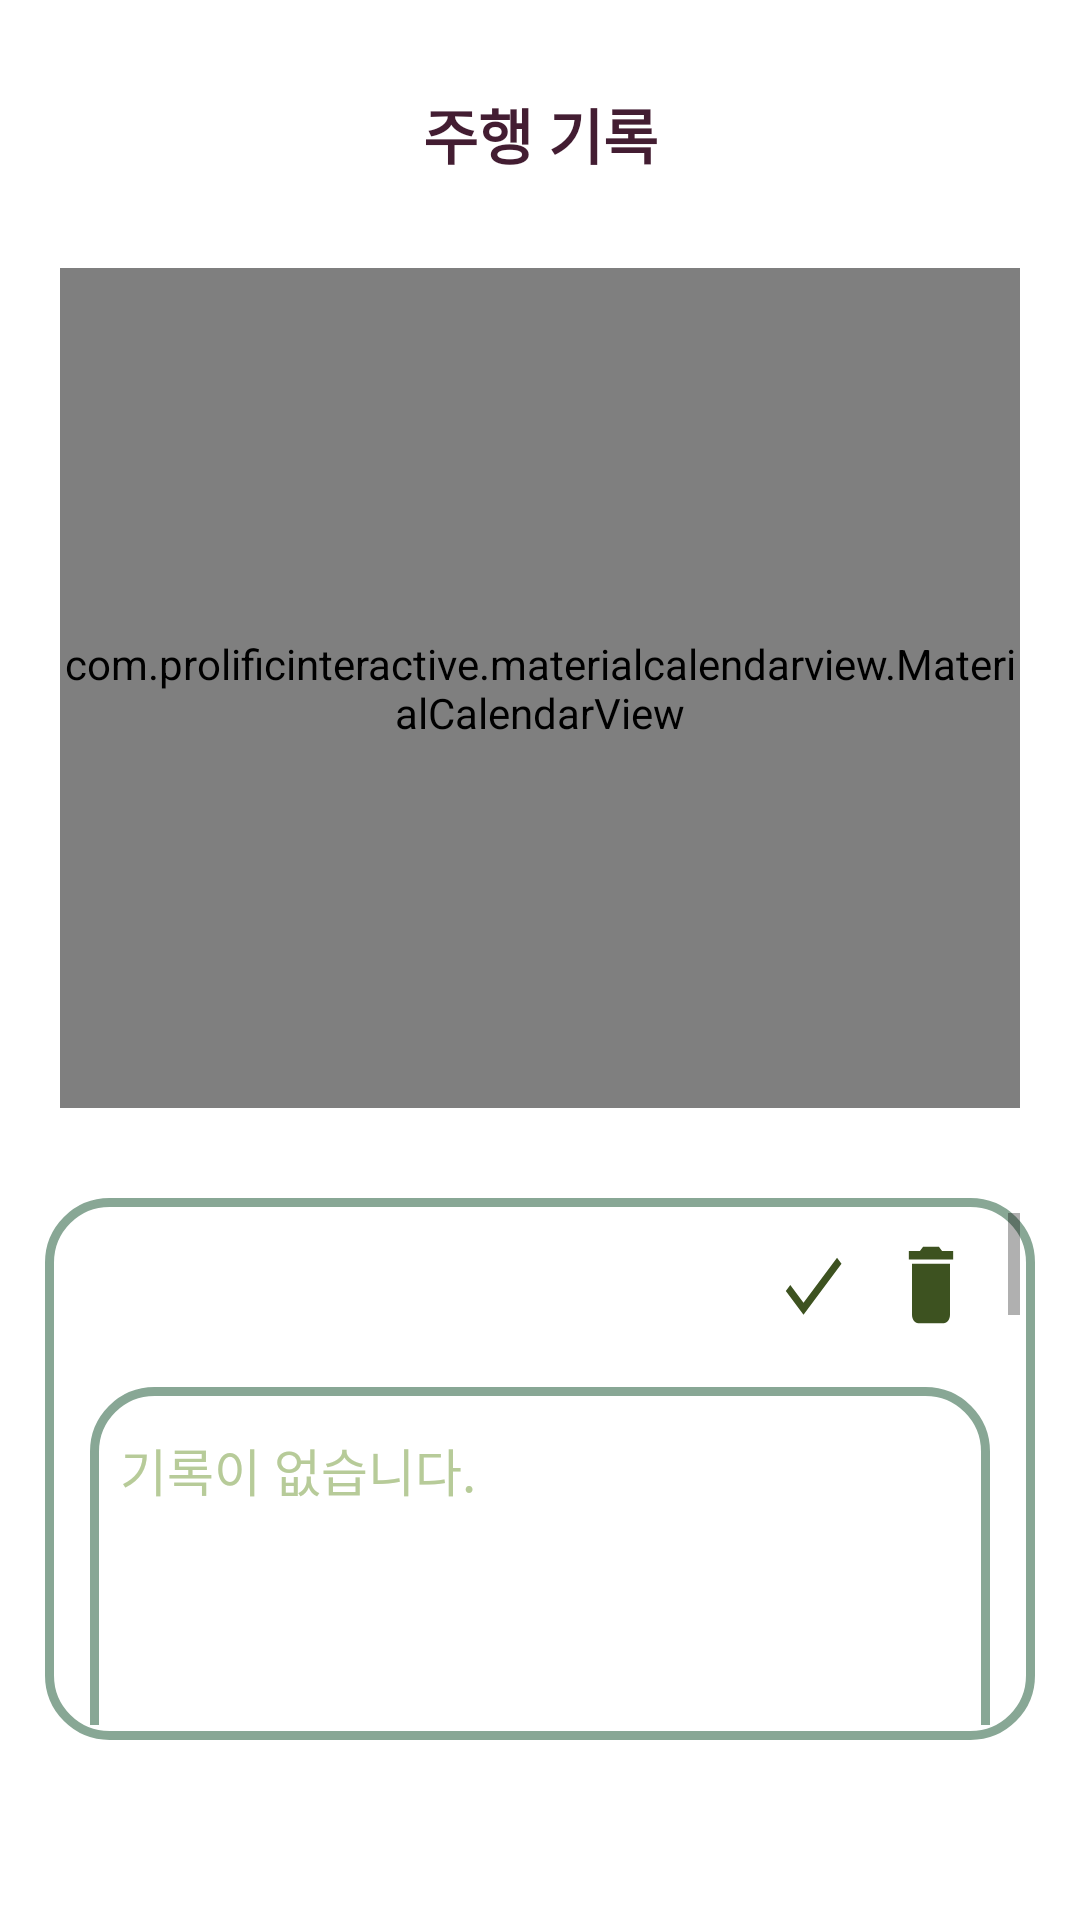

Named icons in this screenshot (1080w x 1920h) and their centers, (x=x, y=y):
check: (x=814, y=1286)
delete: (x=931, y=1285)
